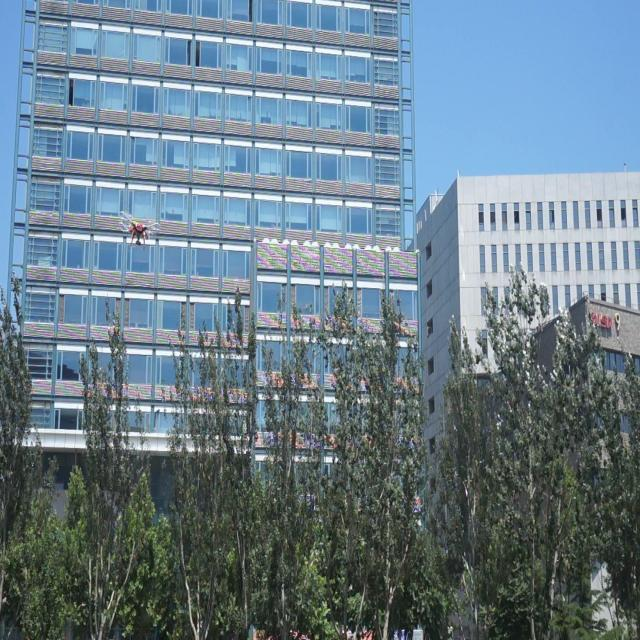drone: (118, 210, 158, 250)
